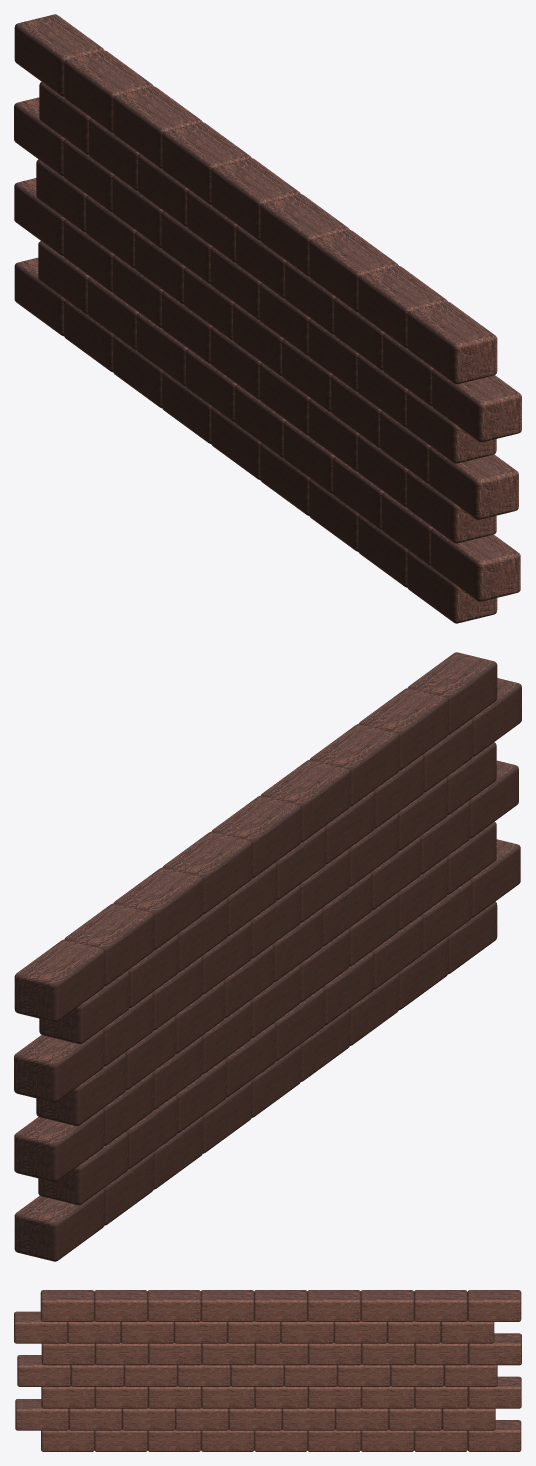
The model's file is Bricks.fbx.
The picture shows the model from 3 angles, top to bottom: view 1: azimuth 30°, elevation 25°; view 2: azimuth 150°, elevation 25°; view 3: azimuth 270°, elevation 25°; orthographic projection. The views are drawn at different scales.
Parts seen in each view (by area): view 1: Brick55, Brick10, Brick46, Brick28, Brick63, Brick62, Brick59, Brick56, Brick61, Brick60, Brick58, Brick57 (+51 smaller); view 2: Brick63, Brick45, Brick1, Brick27, Brick57, Brick60, Brick61, Brick59, Brick58, Brick62, Brick55, Brick56 (+51 smaller); view 3: Brick63, Brick55, Brick56, Brick62, Brick61, Brick60, Brick59, Brick57, Brick58, Brick45, Brick46, Brick10 (+51 smaller).
Boxes of the visible parts, x1=… form: Brick55: x1=407, y1=301, x2=497, y2=384; Brick10: x1=430, y1=528, x2=520, y2=601; Brick46: x1=432, y1=369, x2=521, y2=442; Brick28: x1=429, y1=447, x2=518, y2=519; Brick63: x1=14, y1=14, x2=104, y2=96; Brick62: x1=162, y1=122, x2=251, y2=204; Brick59: x1=211, y1=158, x2=300, y2=240; Brick56: x1=113, y1=86, x2=202, y2=168; Brick61: x1=358, y1=266, x2=447, y2=348; Brick60: x1=309, y1=230, x2=398, y2=312; Brick58: x1=260, y1=194, x2=349, y2=276; Brick57: x1=64, y1=50, x2=153, y2=132; Brick63: x1=14, y1=939, x2=104, y2=1022; Brick45: x1=14, y1=1029, x2=103, y2=1102; Brick1: x1=14, y1=1189, x2=104, y2=1261; Brick27: x1=14, y1=1109, x2=104, y2=1182; Brick57: x1=64, y1=903, x2=153, y2=985; Brick60: x1=309, y1=724, x2=399, y2=806; Brick61: x1=359, y1=688, x2=448, y2=770; Brick59: x1=211, y1=796, x2=301, y2=878; Brick58: x1=260, y1=760, x2=350, y2=842; Brick62: x1=162, y1=831, x2=252, y2=914; Brick55: x1=408, y1=652, x2=497, y2=734; Brick56: x1=113, y1=867, x2=202, y2=950; Brick63: x1=467, y1=1290, x2=521, y2=1321; Brick55: x1=40, y1=1290, x2=94, y2=1321; Brick56: x1=360, y1=1290, x2=413, y2=1321; Brick62: x1=307, y1=1290, x2=360, y2=1321; Brick61: x1=94, y1=1290, x2=147, y2=1321; Brick60: x1=147, y1=1290, x2=200, y2=1321; Brick59: x1=254, y1=1290, x2=307, y2=1321; Brick57: x1=414, y1=1290, x2=467, y2=1321; Brick58: x1=201, y1=1290, x2=253, y2=1321; Brick45: x1=468, y1=1333, x2=521, y2=1365; Brick46: x1=14, y1=1311, x2=67, y2=1343; Brick10: x1=15, y1=1399, x2=68, y2=1430.
Size of the model in its own units: 1.21 by 7.37 by 22.34.
Materials: 1 (1 with a texture image).
